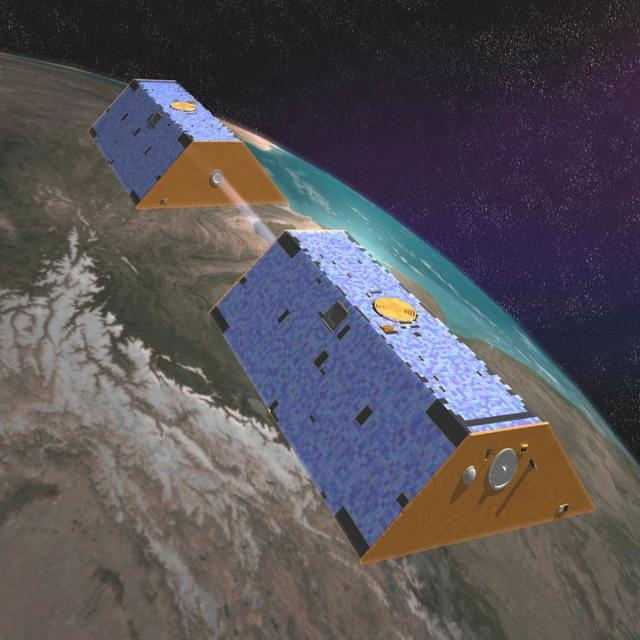medium_debris: (89, 45, 592, 585)
